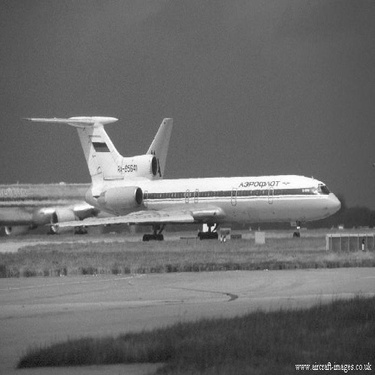airplane: (18, 104, 346, 259), (1, 110, 183, 227)
